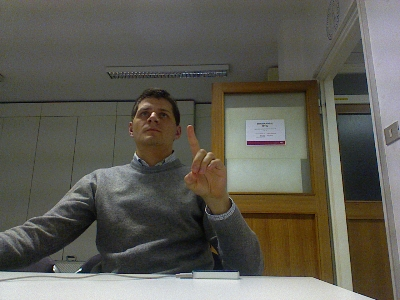食指: (183, 123, 229, 198)
